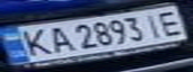2: (69, 20, 97, 51)
3: (121, 15, 148, 43)
8: (90, 19, 115, 47)
9: (109, 16, 130, 45)
A: (39, 24, 75, 54)
E: (151, 7, 190, 37)
I: (139, 10, 169, 38)
K: (12, 26, 54, 59)
